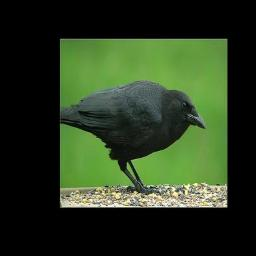Crow: (60, 81, 207, 198)
